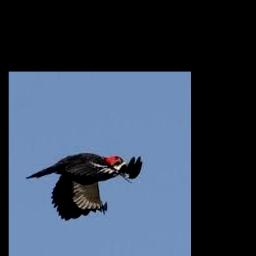Woodpecker: (25, 152, 142, 221)
